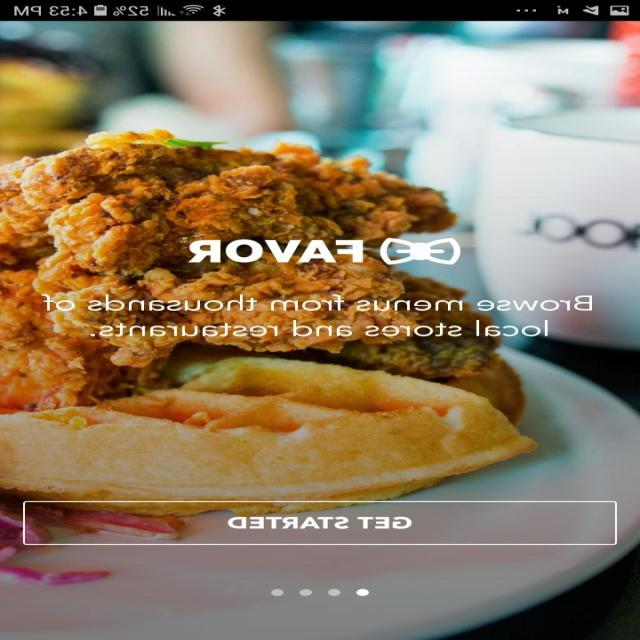BackgroundImage: (1, 21, 640, 639)
Image: (379, 237, 462, 265)
Text: (42, 292, 593, 336), (188, 239, 364, 263)
TextButton: (24, 500, 618, 545)
